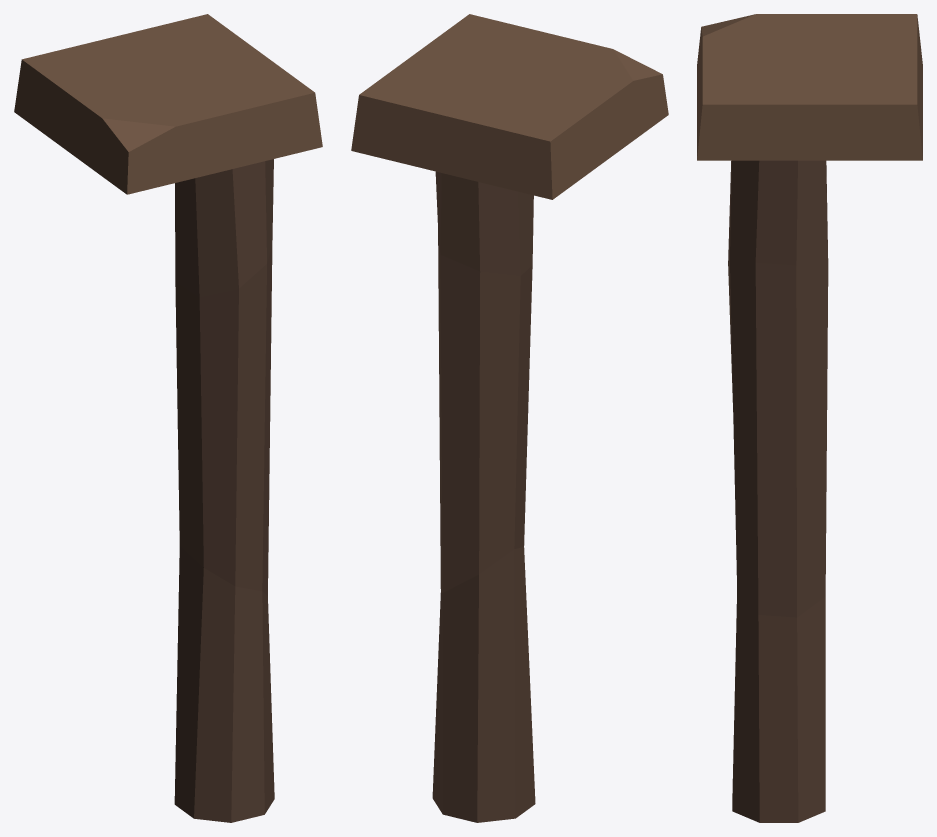
Rendered from SM_Bld_Retainer_Wall_02_Tall_Corner.fbx.
3 views of the same model, side by side, from view 1: azimuth 30°, elevation 25°; view 2: azimuth 150°, elevation 25°; view 3: azimuth 270°, elevation 25° (orthographic). The views are drawn at different scales.
Parts seen in each view (by area): view 1: SM_Bld_Retainer_Wall_02_Tall_Corner; view 2: SM_Bld_Retainer_Wall_02_Tall_Corner; view 3: SM_Bld_Retainer_Wall_02_Tall_Corner.
Boxes of the visible parts, left/top/right/bottom form: SM_Bld_Retainer_Wall_02_Tall_Corner: left=14, top=14, right=322, bottom=822; SM_Bld_Retainer_Wall_02_Tall_Corner: left=351, top=14, right=668, bottom=822; SM_Bld_Retainer_Wall_02_Tall_Corner: left=697, top=14, right=922, bottom=822.
Bounding box in the file's own units: 32.35 × 114 × 32.35.
